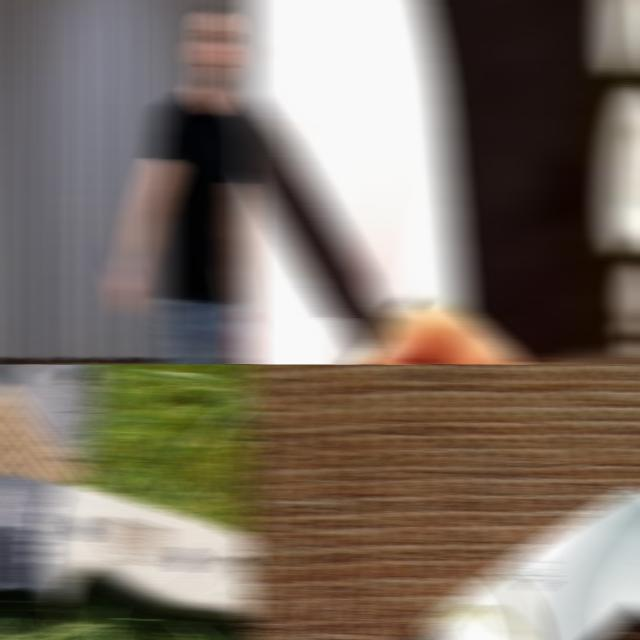Knife: (242, 47, 396, 346)
Knife_Handle: (242, 36, 542, 364), (101, 241, 144, 316)
